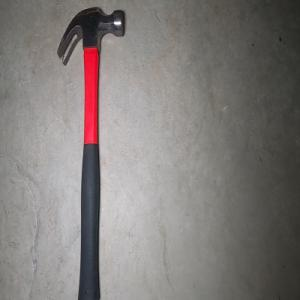Hammer: (55, 5, 125, 300)
